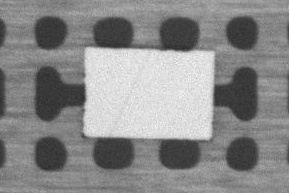DIE_CRACK: (106, 49, 153, 137)
